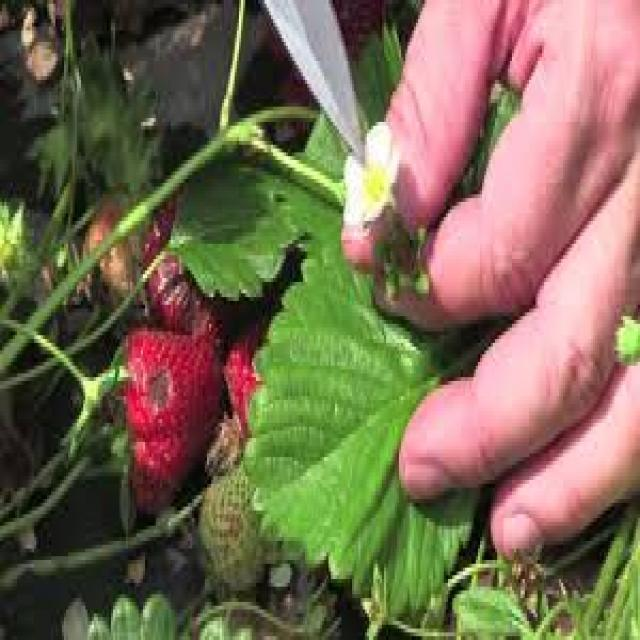Mancha negra Antracnosis: (113, 313, 219, 511), (140, 182, 240, 334)
